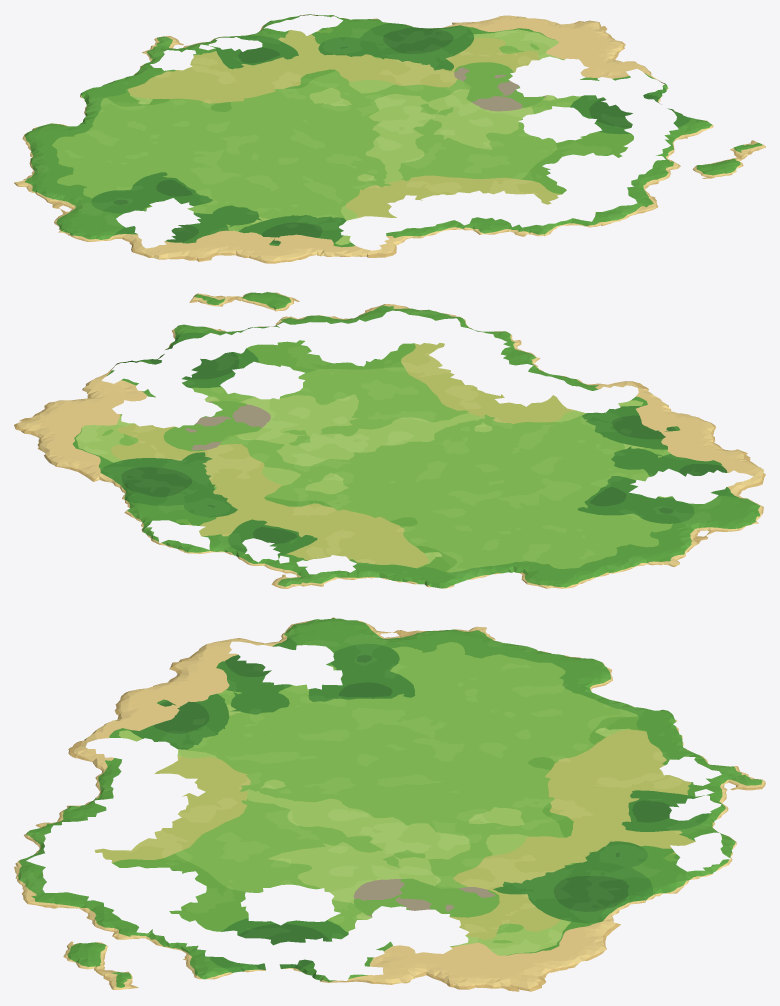
The model's file is Isl-start4-Ground.fbx.
The picture shows the model from 3 angles, top to bottom: view 1: azimuth 30°, elevation 25°; view 2: azimuth 150°, elevation 25°; view 3: azimuth 270°, elevation 25°; orthographic projection. The views are drawn at different scales.
Visible parts, largest first — view 1: Isl-start4-Ground-c22, Isl-start4-Ground-c12, Isl-start4-Ground-c11, Isl-start4-Ground-c21, Isl-start4-Ground-c32, Isl-start4-Ground-c31, Isl-start4-Ground-c01; view 2: Isl-start4-Ground-c22, Isl-start4-Ground-c12, Isl-start4-Ground-c11, Isl-start4-Ground-c21, Isl-start4-Ground-c32, Isl-start4-Ground-c31, Isl-start4-Ground-c01; view 3: Isl-start4-Ground-c22, Isl-start4-Ground-c12, Isl-start4-Ground-c11, Isl-start4-Ground-c21, Isl-start4-Ground-c32, Isl-start4-Ground-c31, Isl-start4-Ground-c01.
Boxes of the visible parts, x1,y1,x2,y2 form: Isl-start4-Ground-c22: [196, 14, 602, 139]; Isl-start4-Ground-c12: [22, 36, 332, 207]; Isl-start4-Ground-c11: [66, 140, 449, 263]; Isl-start4-Ground-c21: [333, 74, 732, 236]; Isl-start4-Ground-c32: [520, 16, 640, 75]; Isl-start4-Ground-c31: [602, 65, 765, 173]; Isl-start4-Ground-c01: [54, 208, 106, 241]; Isl-start4-Ground-c22: [46, 393, 418, 570]; Isl-start4-Ground-c12: [271, 461, 704, 588]; Isl-start4-Ground-c11: [419, 372, 765, 532]; Isl-start4-Ground-c21: [130, 292, 544, 461]; Isl-start4-Ground-c32: [14, 382, 137, 458]; Isl-start4-Ground-c31: [86, 292, 271, 391]; Isl-start4-Ground-c01: [706, 500, 763, 535]; Isl-start4-Ground-c22: [389, 791, 736, 958]; Isl-start4-Ground-c12: [389, 630, 765, 795]; Isl-start4-Ground-c11: [68, 628, 392, 795]; Isl-start4-Ground-c21: [14, 791, 392, 958]; Isl-start4-Ground-c32: [389, 952, 593, 991]; Isl-start4-Ground-c31: [67, 953, 392, 989]; Isl-start4-Ground-c01: [283, 617, 392, 633].
Size of the model in its own units: 105 by 0.49 by 89.01.
